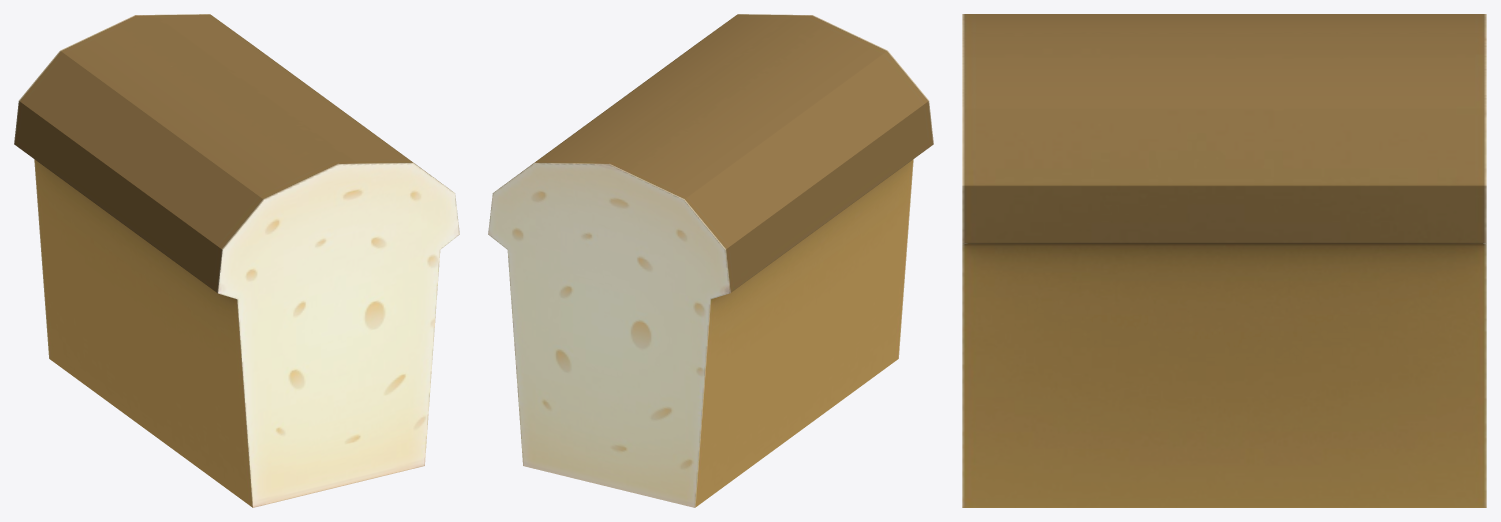
Rendered from d21a111c-e1e3-4652-a46c-8824bef8944f.glb.
3 renders of one model, left to right at view 1: azimuth 30°, elevation 25°; view 2: azimuth 150°, elevation 25°; view 3: azimuth 270°, elevation 25°, orthographic. The views are drawn at different scales.
Visible parts, largest first — view 1: BreadLoaf; view 2: BreadLoaf; view 3: BreadLoaf.
Part boxes in pixels (<box>): BreadLoaf: <box>14,14,459,507</box>; BreadLoaf: <box>488,14,933,507</box>; BreadLoaf: <box>962,14,1486,507</box>.
Size of the model in its own units: 0.2189 by 0.2789 by 0.3195.
1 material, 1 textured.
